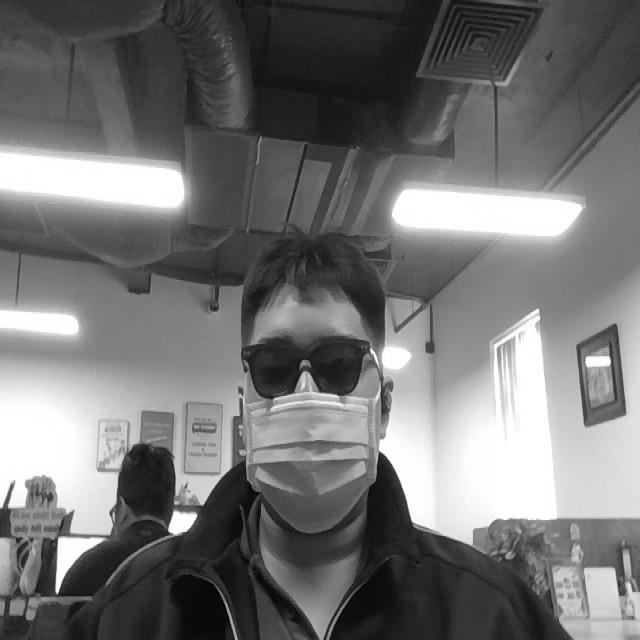fake: (243, 390, 376, 533), (241, 340, 377, 401)
